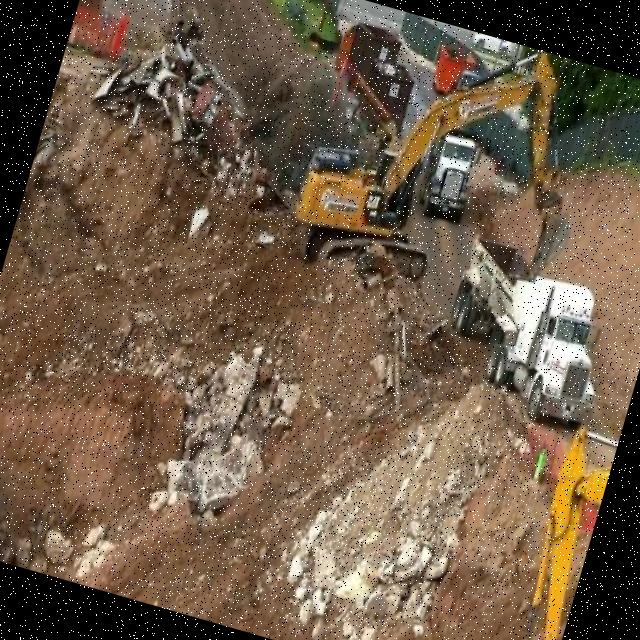Dump Truck: (428, 232, 630, 431), (412, 128, 481, 224)
Excavator: (281, 0, 615, 327), (490, 414, 621, 640)
